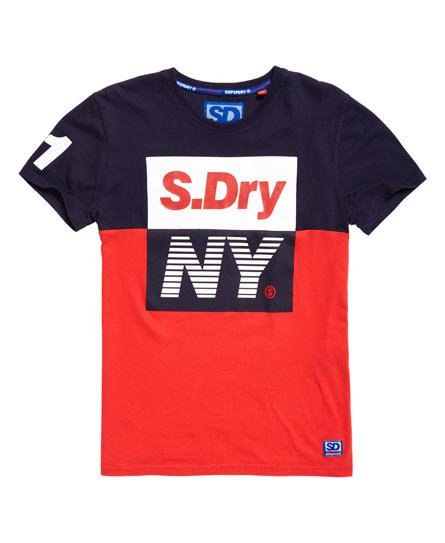teeshirt: (19, 61, 445, 472)
